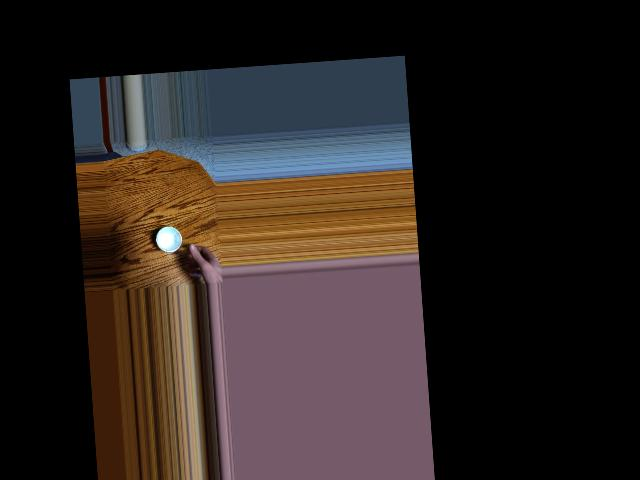cotage: (155, 225, 185, 259)
